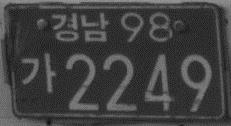2: (101, 52, 139, 113), (65, 52, 102, 112)
4: (142, 51, 175, 113)
8: (148, 10, 172, 44)
9: (179, 53, 213, 114), (119, 11, 145, 44)
가: (18, 50, 56, 95)
경남_O: (49, 11, 110, 42)
